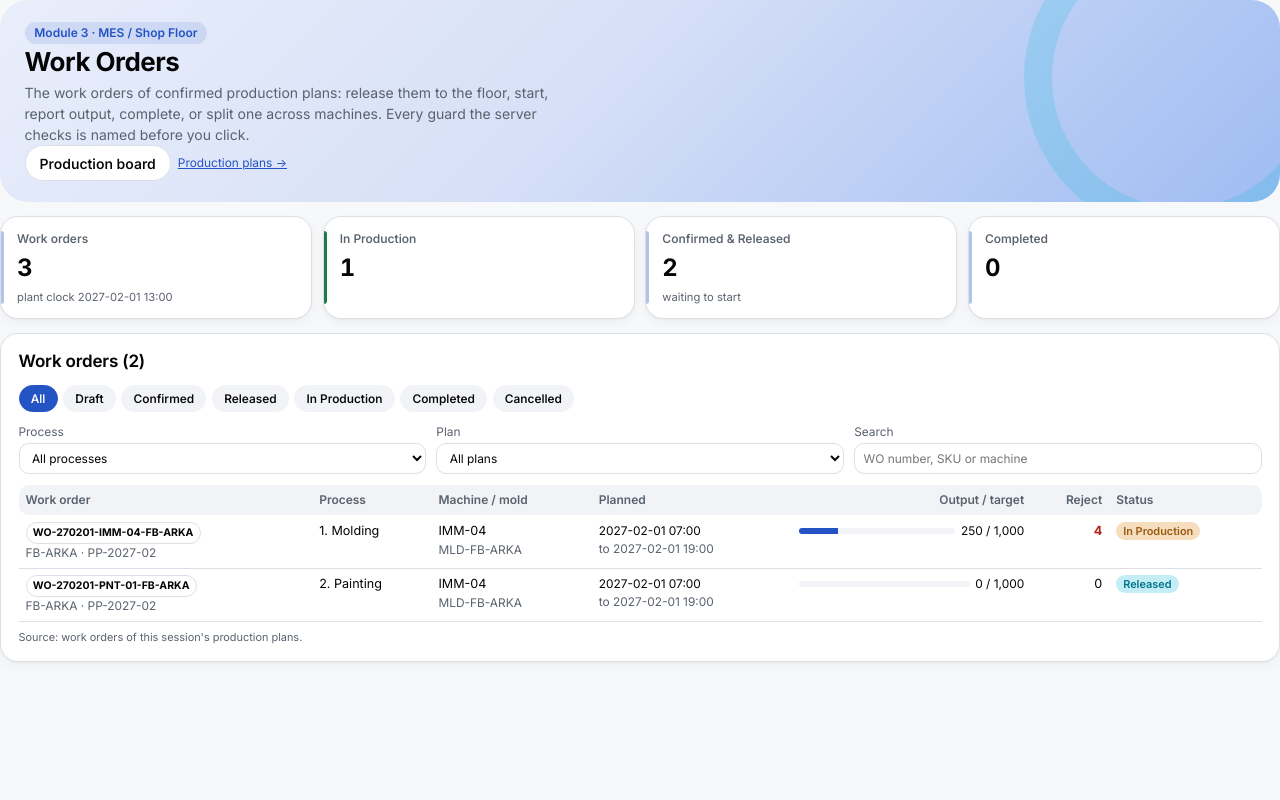
Test: shows the guard reasons the server returns when a move is refused
Click the button "WO-270201-PNT-01-FB-ARKA" at x=111, y=586, box left=26, top=575, right=197, bottom=597
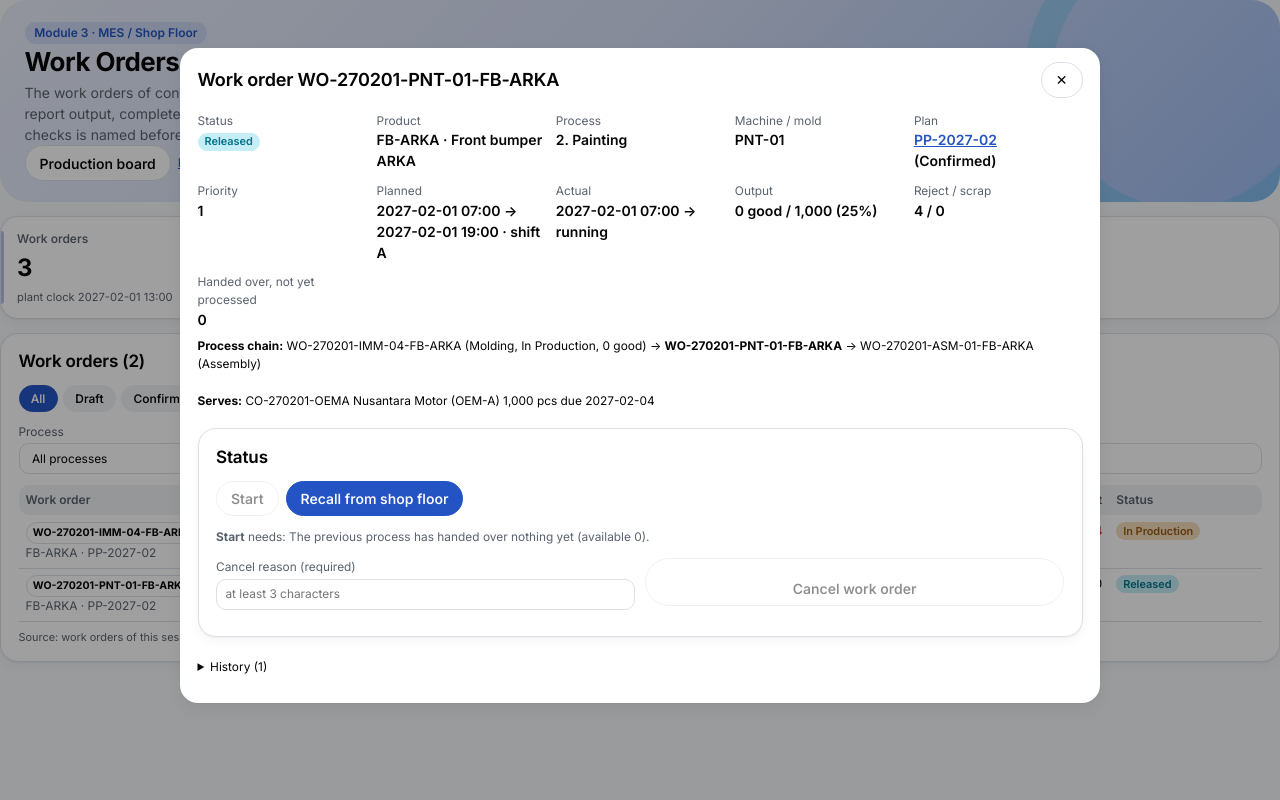
Click the button "Recall from shop floor" at x=374, y=499, box left=286, top=481, right=463, bottom=516
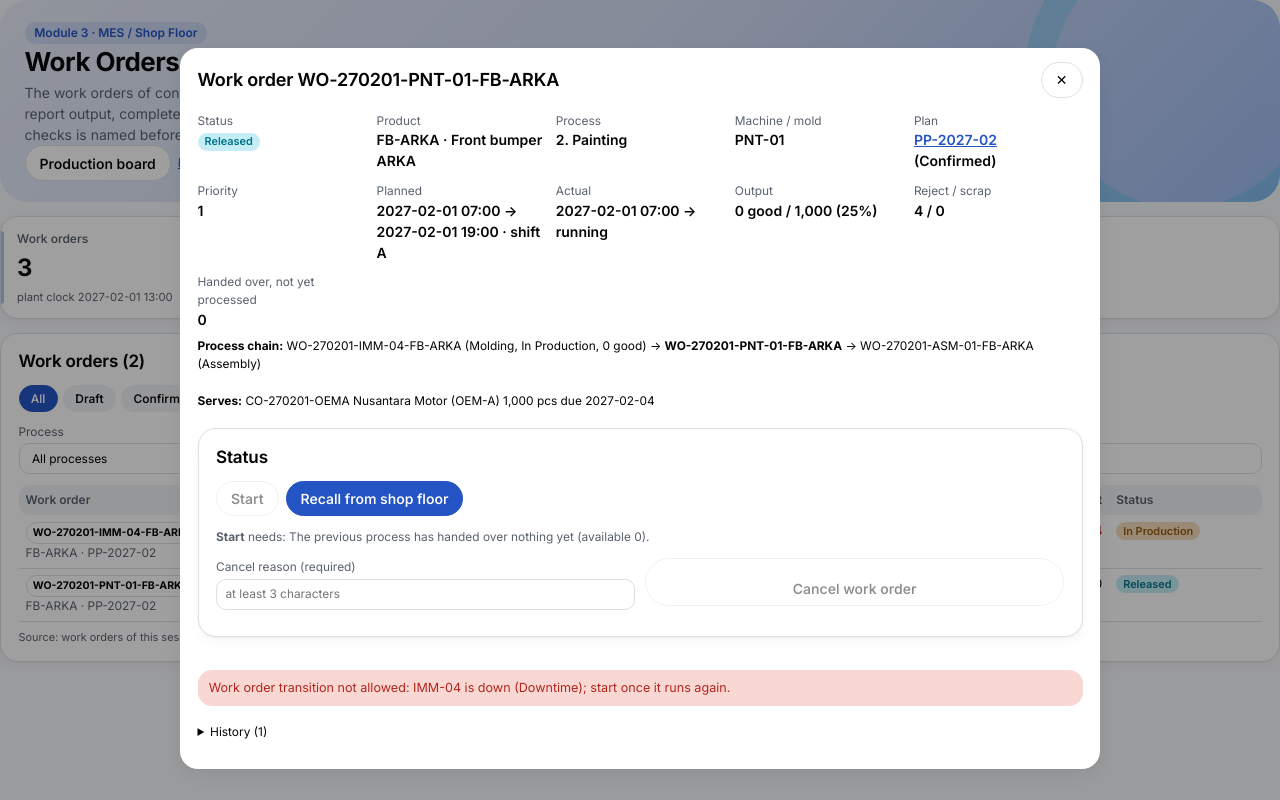
Expected: the message shows "IMM-04 is down", left=209, top=680, right=730, bottom=695
